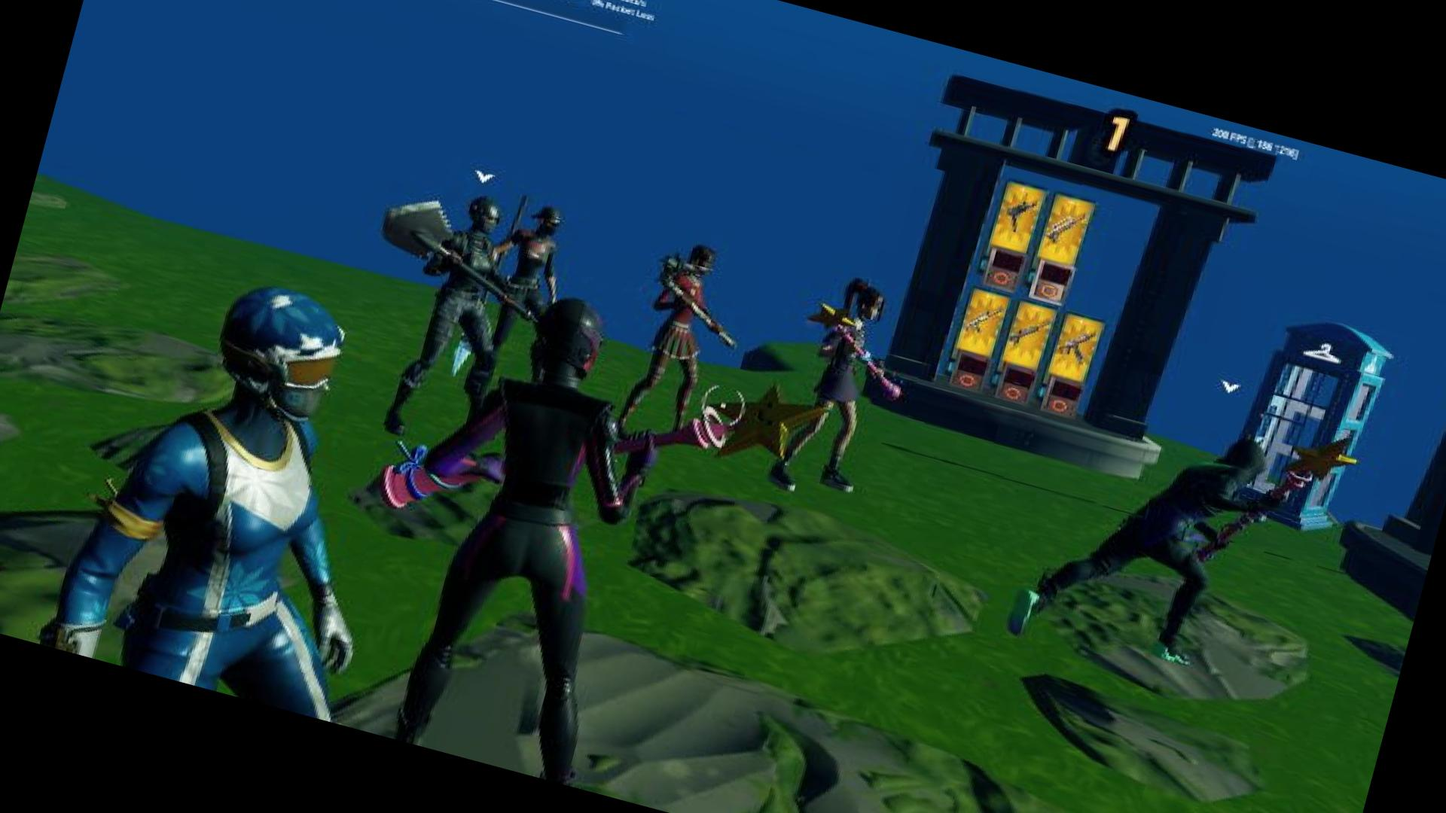player: (60, 265, 449, 726), (1066, 398, 1304, 689), (370, 190, 546, 470), (576, 226, 771, 478), (752, 268, 933, 514), (457, 190, 601, 408)
